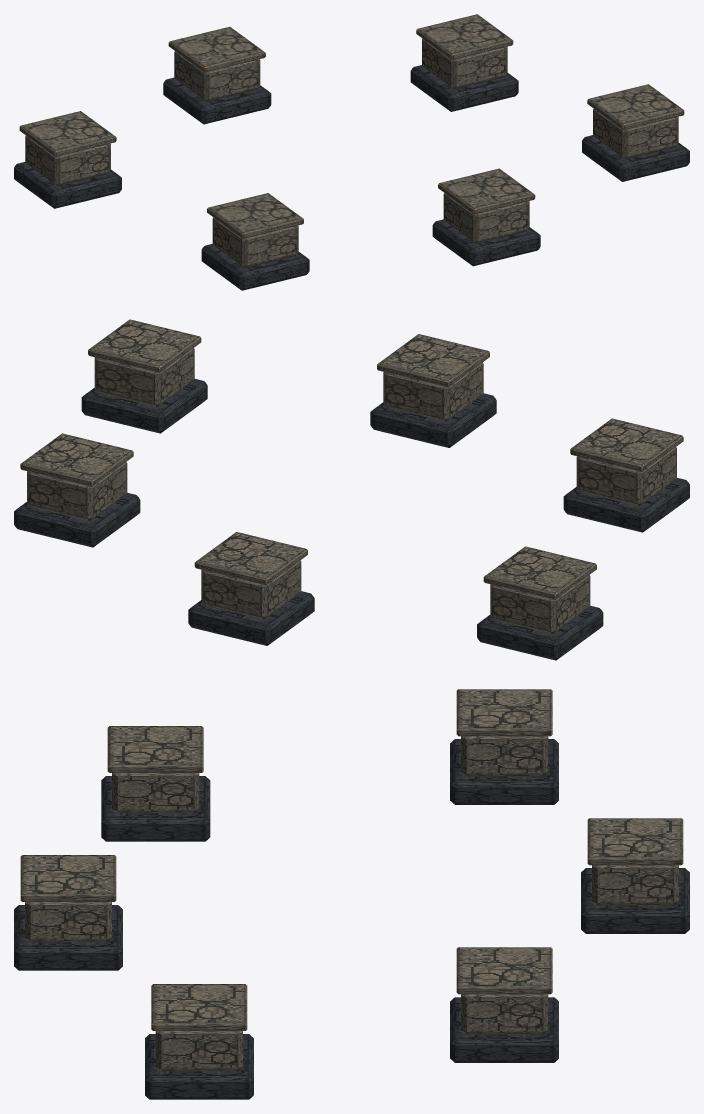
The model's file is marker_pedestals.fbx.
The picture shows the model from 3 angles, top to bottom: view 1: azimuth 30°, elevation 25°; view 2: azimuth 150°, elevation 25°; view 3: azimuth 270°, elevation 25°; orthographic projection. The views are drawn at different scales.
Visible parts, largest first — view 1: marker_pedestals; view 2: marker_pedestals; view 3: marker_pedestals.
Boxes of the visible parts, x1=… form: marker_pedestals: x1=14, y1=14, x2=689, y2=290; marker_pedestals: x1=14, y1=319, x2=689, y2=660; marker_pedestals: x1=14, y1=689, x2=689, y2=1099.
Size of the model in its own units: 37 by 3.8 by 31.
1 material, 1 textured.
